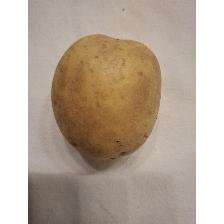Kartoffel: (48, 32, 163, 164)
